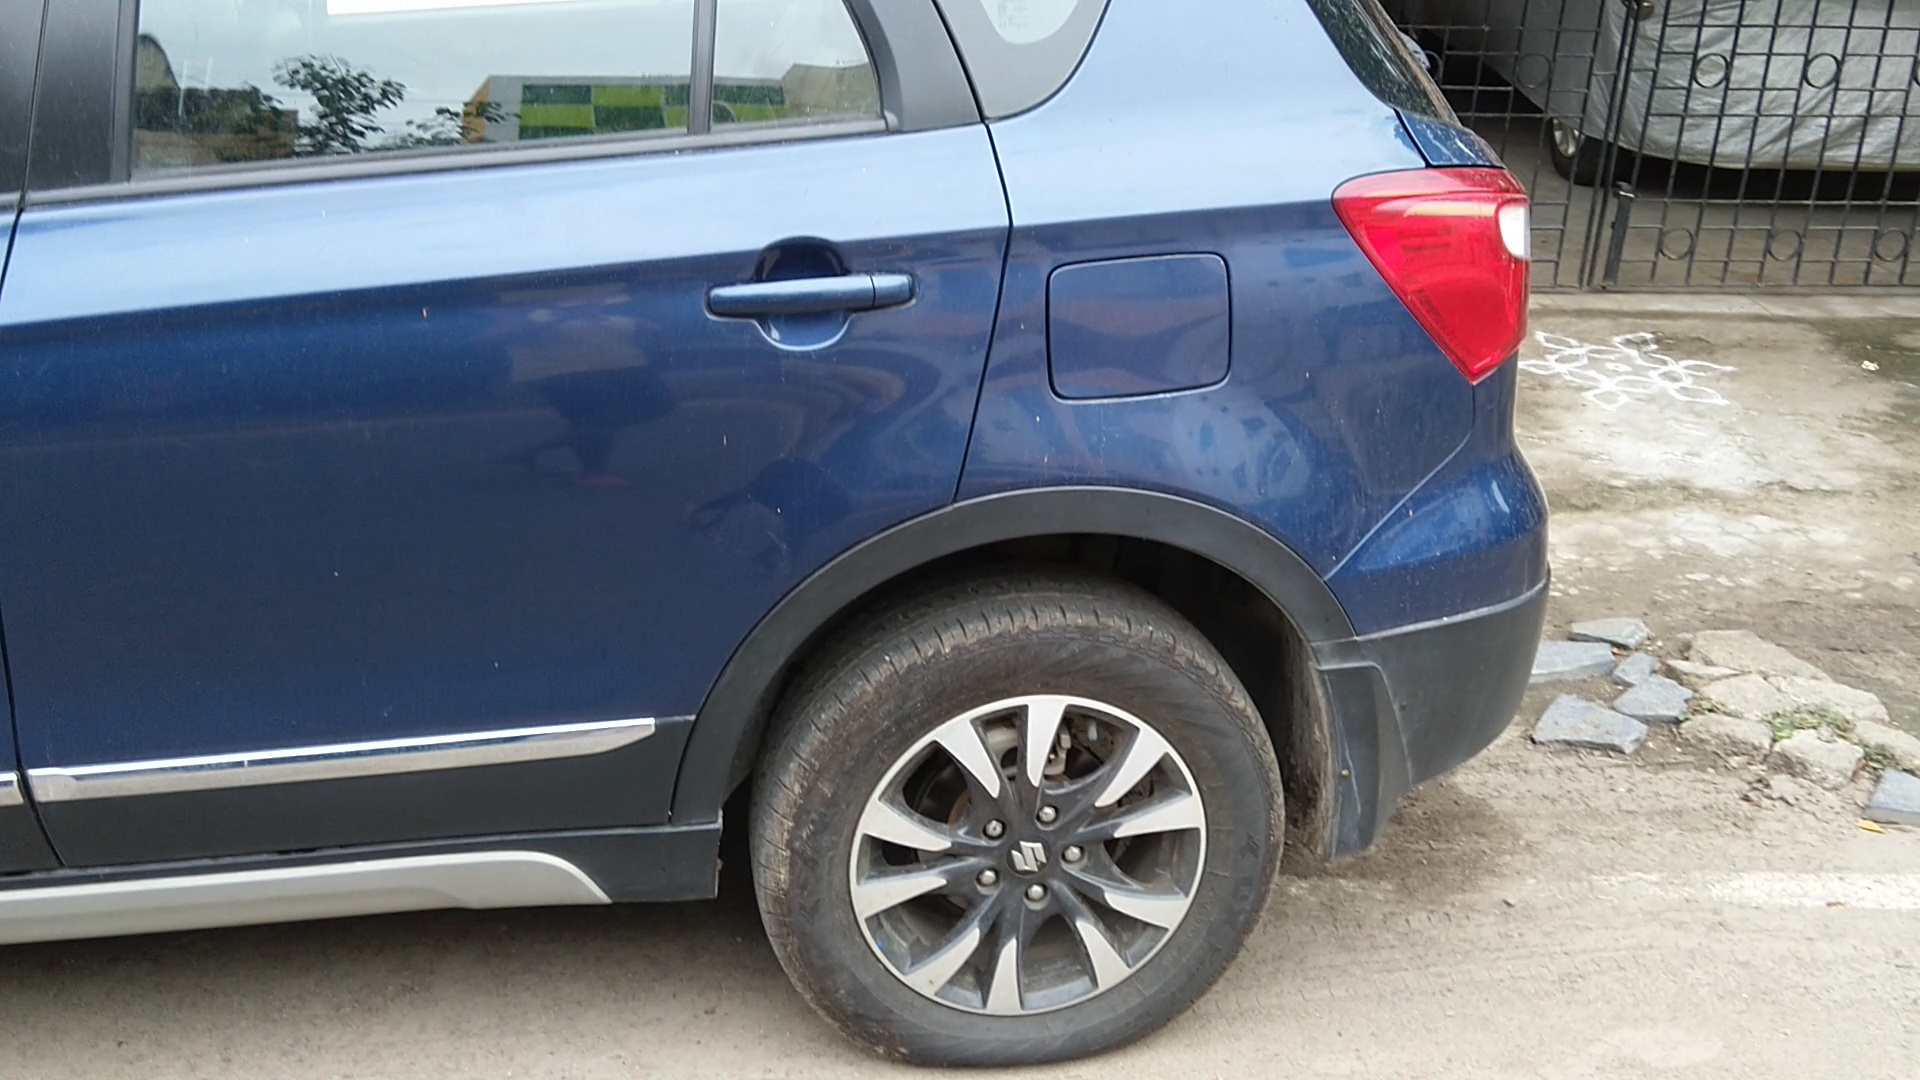alloy_wheel: (789, 596, 1255, 1080)
